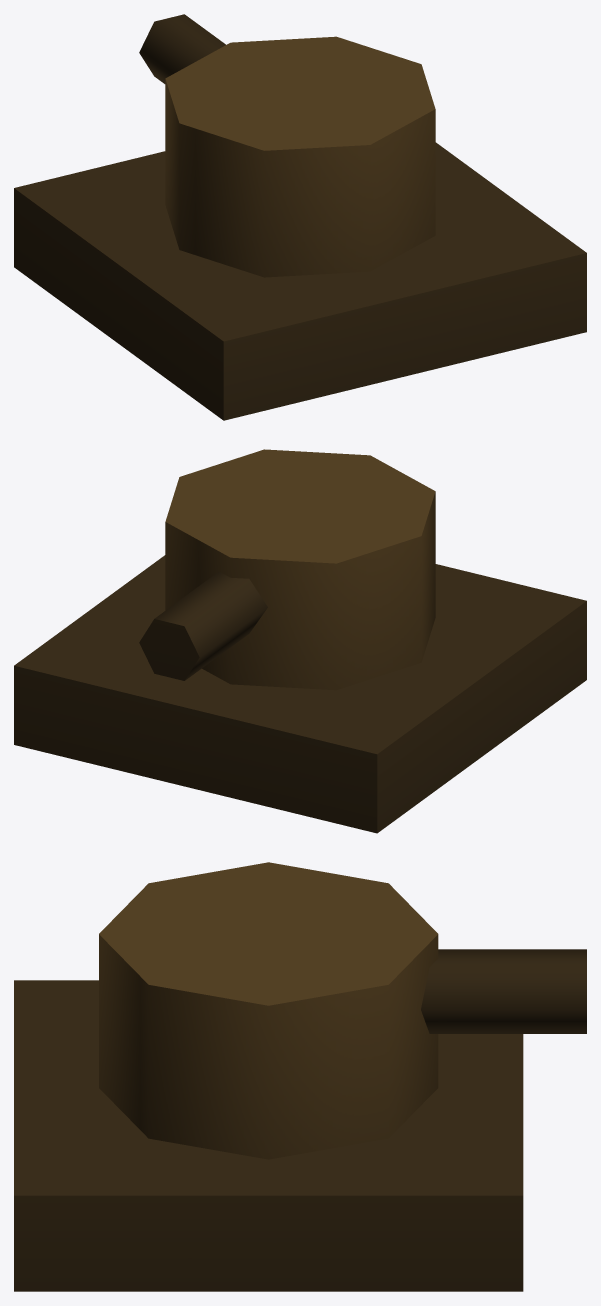
Rendered from laser-turret.glb.
3 views of the same model, one above another, from view 1: azimuth 30°, elevation 25°; view 2: azimuth 150°, elevation 25°; view 3: azimuth 270°, elevation 25° (orthographic). The views are drawn at different scales.
Parts seen in each view (by area): view 1: laser-turret; view 2: laser-turret; view 3: laser-turret.
Part boxes in pixels (left/top/right/bottom): laser-turret: left=14, top=14, right=586, bottom=420; laser-turret: left=14, top=449, right=586, bottom=833; laser-turret: left=14, top=862, right=586, bottom=1291.
Bounding box in the file's own units: 0.24 × 0.13 × 0.27.
